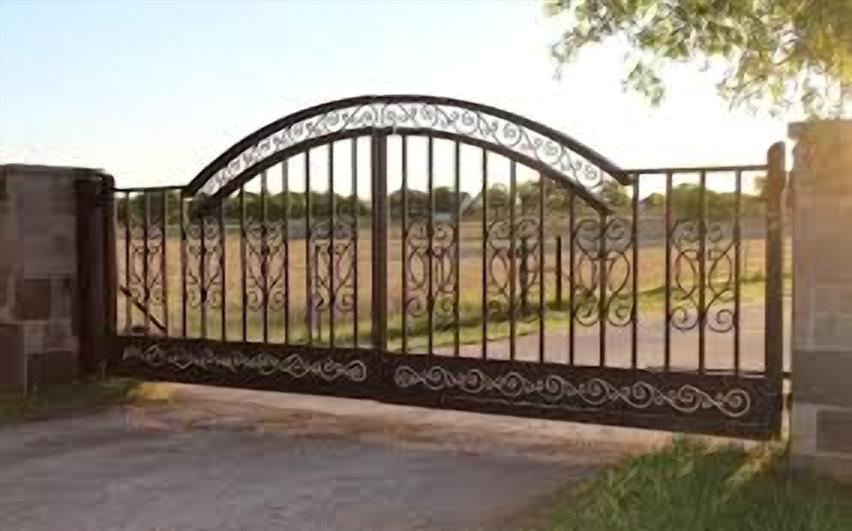Gate: (72, 93, 790, 442)
